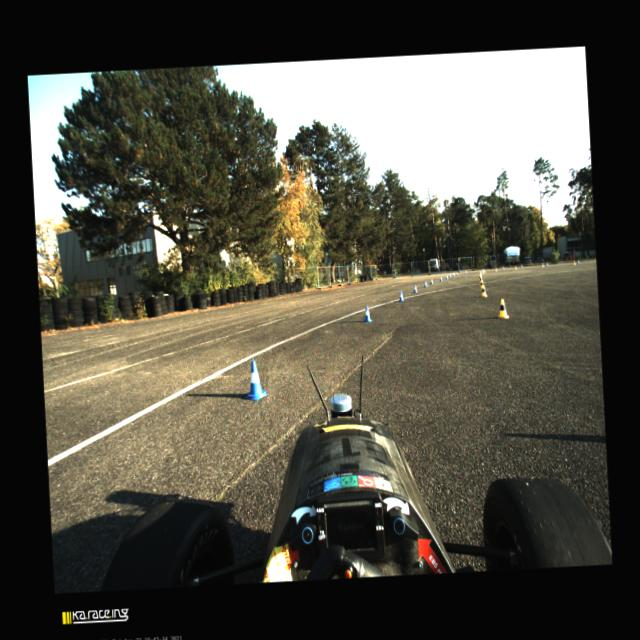blue_cone: (243, 360, 269, 400), (363, 306, 372, 322), (398, 290, 404, 302), (412, 285, 418, 293), (424, 280, 428, 288), (429, 278, 434, 284), (448, 273, 452, 277), (520, 265, 524, 269), (440, 276, 442, 282), (446, 274, 448, 280), (456, 272, 459, 276), (464, 270, 467, 274), (502, 266, 505, 270), (577, 260, 580, 264), (546, 262, 548, 267), (452, 272, 454, 276)
yellow_cone: (497, 298, 509, 318), (480, 285, 488, 297), (480, 280, 484, 288), (482, 268, 486, 274), (494, 267, 498, 271), (480, 276, 482, 282), (480, 270, 482, 276), (542, 263, 544, 268), (574, 260, 576, 265), (514, 266, 516, 270), (482, 270, 484, 274), (479, 274, 480, 280)
